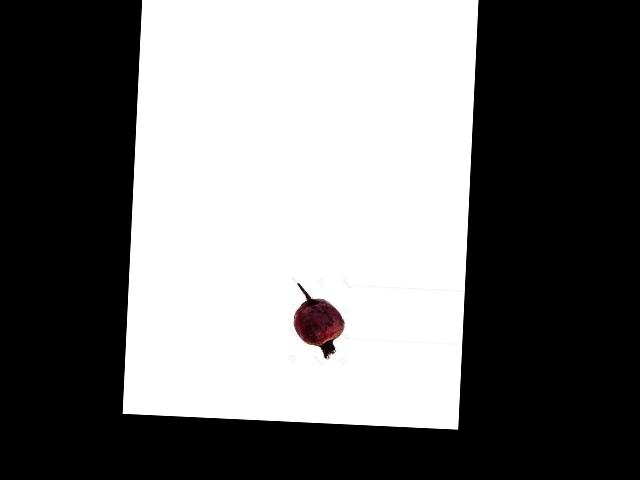beet: (291, 283, 345, 360)
